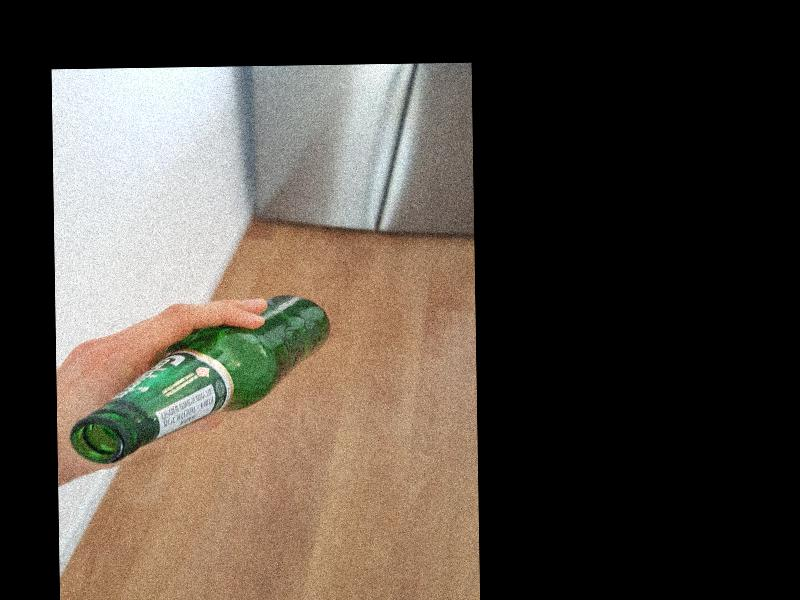Beer: (66, 295, 332, 465)
